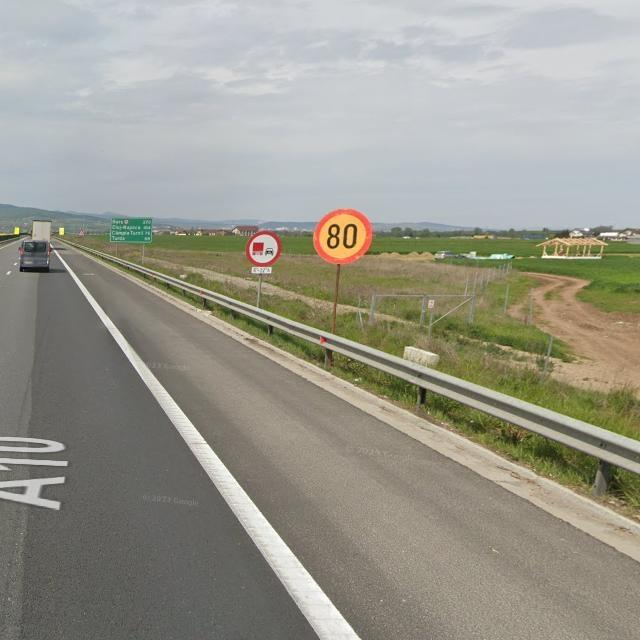forb_speed_over_80: (313, 208, 373, 265)
